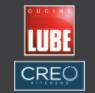creo: (14, 60, 86, 91)
lube: (22, 4, 77, 57)
lube creo: (12, 2, 86, 91)
